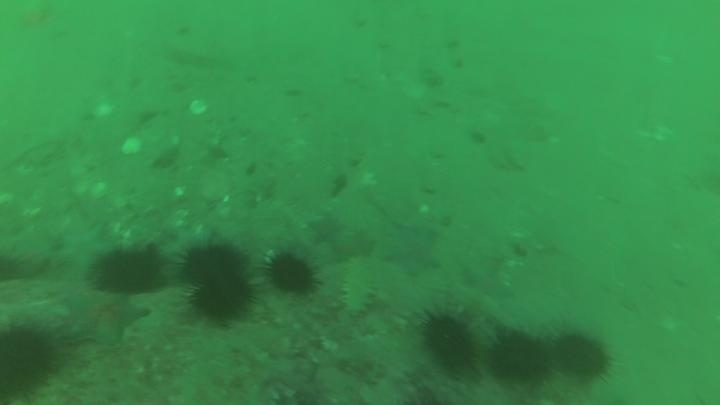echinus: (1, 320, 62, 402), (418, 308, 480, 374), (186, 267, 255, 324), (91, 246, 164, 297), (486, 329, 552, 385), (552, 329, 613, 383), (179, 242, 246, 285), (265, 250, 320, 297)
holothurian: (338, 255, 378, 321)
starfish: (60, 289, 150, 348), (382, 222, 444, 279), (462, 259, 514, 303), (306, 212, 346, 246)
